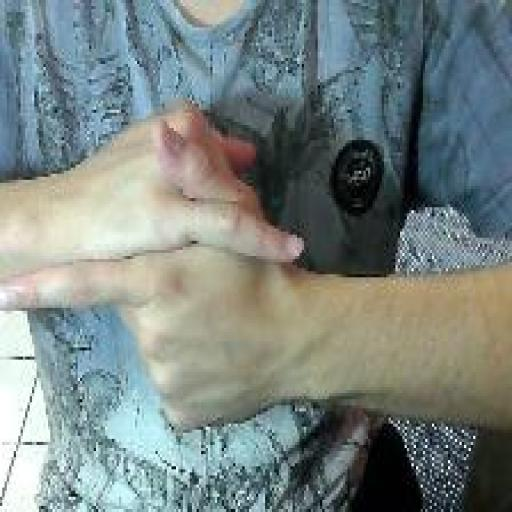U -hare-: (0, 94, 309, 436)
